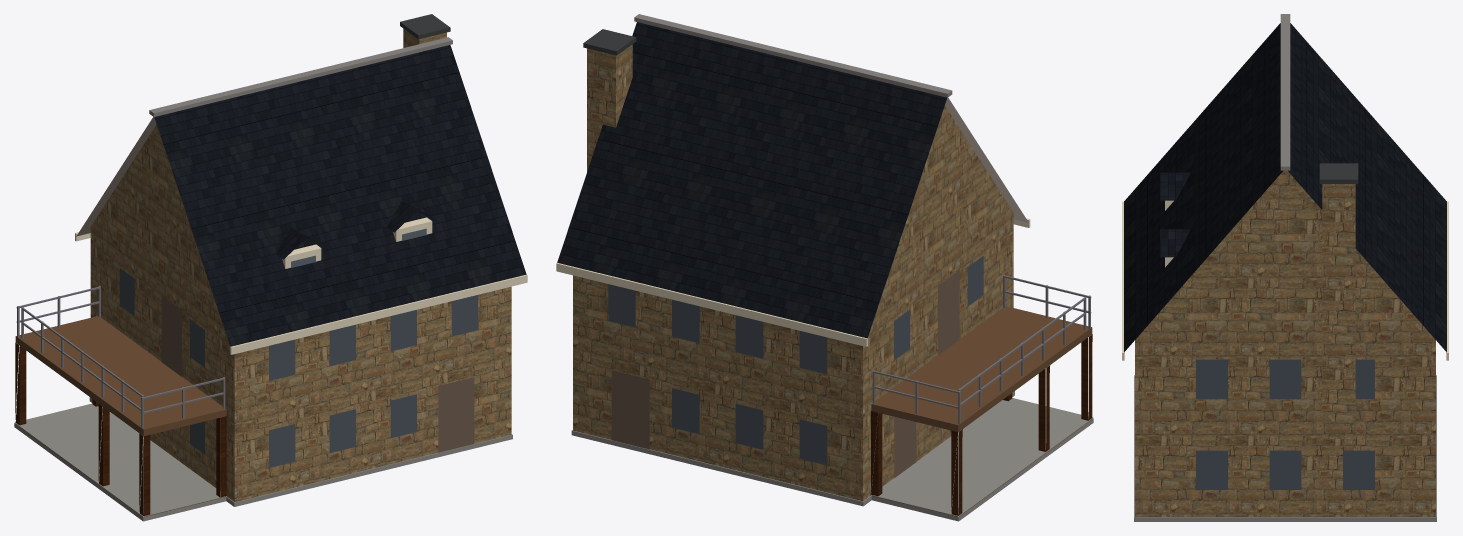
Rendered from rw-stone-cottage.zfix-v22.lod1.glb.
The picture shows the model from 3 angles, left to right: view 1: azimuth 30°, elevation 25°; view 2: azimuth 150°, elevation 25°; view 3: azimuth 270°, elevation 25°; orthographic projection. The views are drawn at different scales.
Parts seen in each view (by area): view 1: rw-stone-cottage; view 2: rw-stone-cottage; view 3: rw-stone-cottage.
Boxes of the visible parts, x1=… form: rw-stone-cottage: x1=14, y1=14, x2=527, y2=521; rw-stone-cottage: x1=556, y1=14, x2=1093, y2=521; rw-stone-cottage: x1=1122, y1=14, x2=1448, y2=521.
Size of the model in its own units: 14.01 by 11.92 by 9.78.
4 materials, 3 textured.
